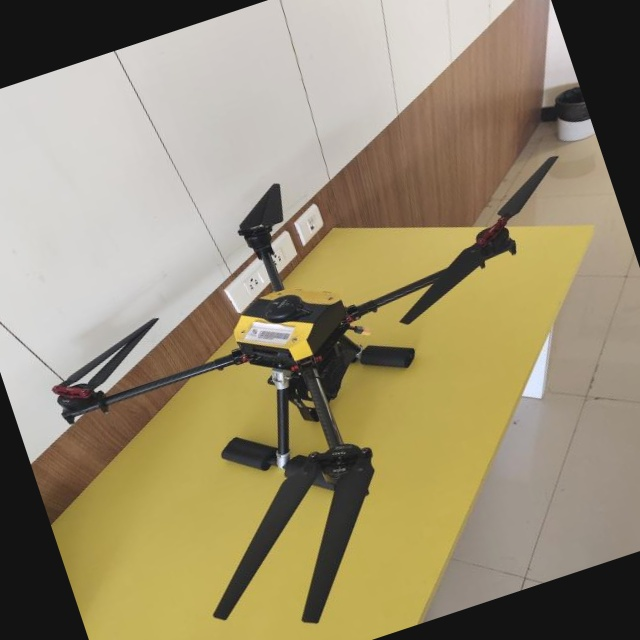quadcopter: (5, 89, 640, 640)
